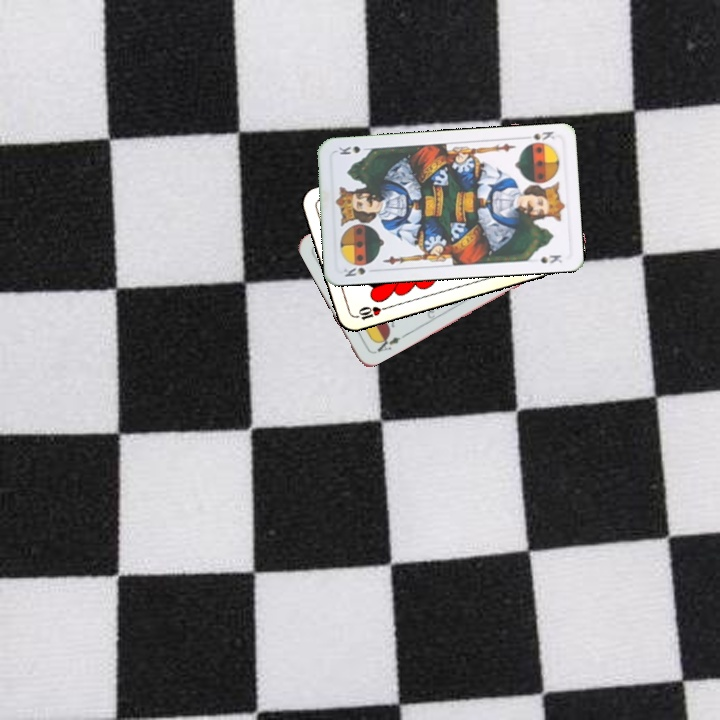EA: (370, 331, 407, 356)
H10: (350, 302, 390, 323)
SK: (519, 127, 557, 148), (340, 263, 368, 279)
